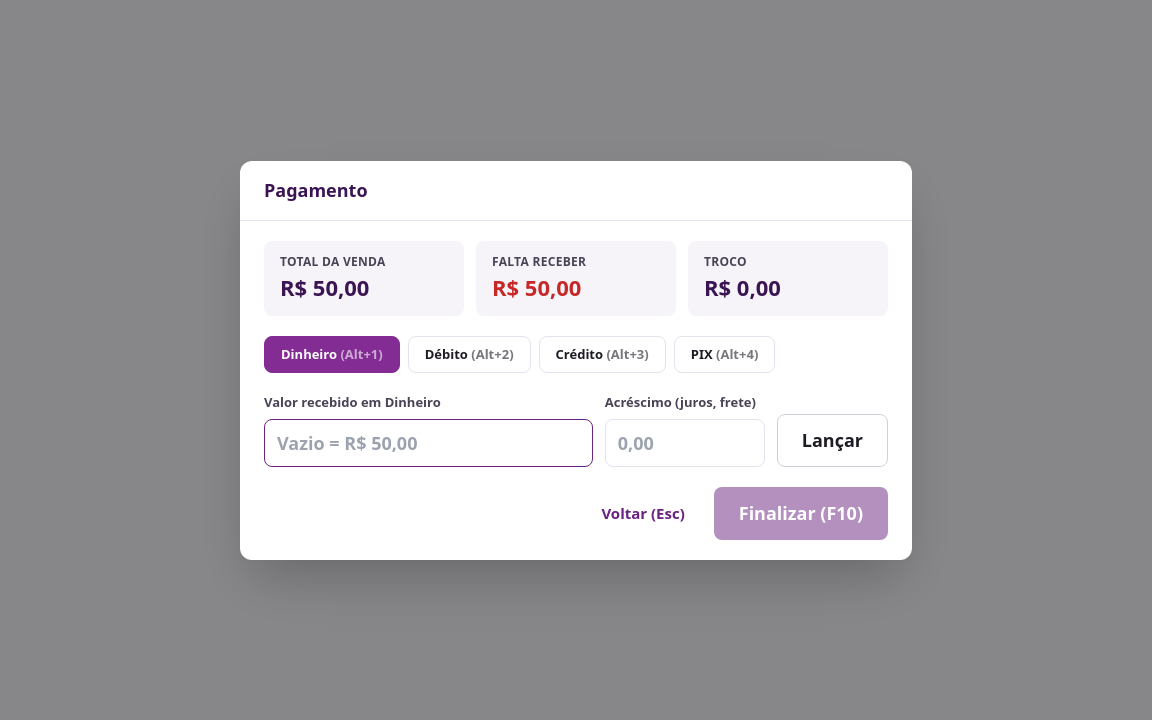
Test: GAP-PRD-014 — o cartão pelo agente local › agente fora do ar é avisado antes de cobrar
The width and height of the screenshot is (1152, 720).
Click the button "Crédito (Alt+3)": point(602, 354) 538,336 -> 666,373
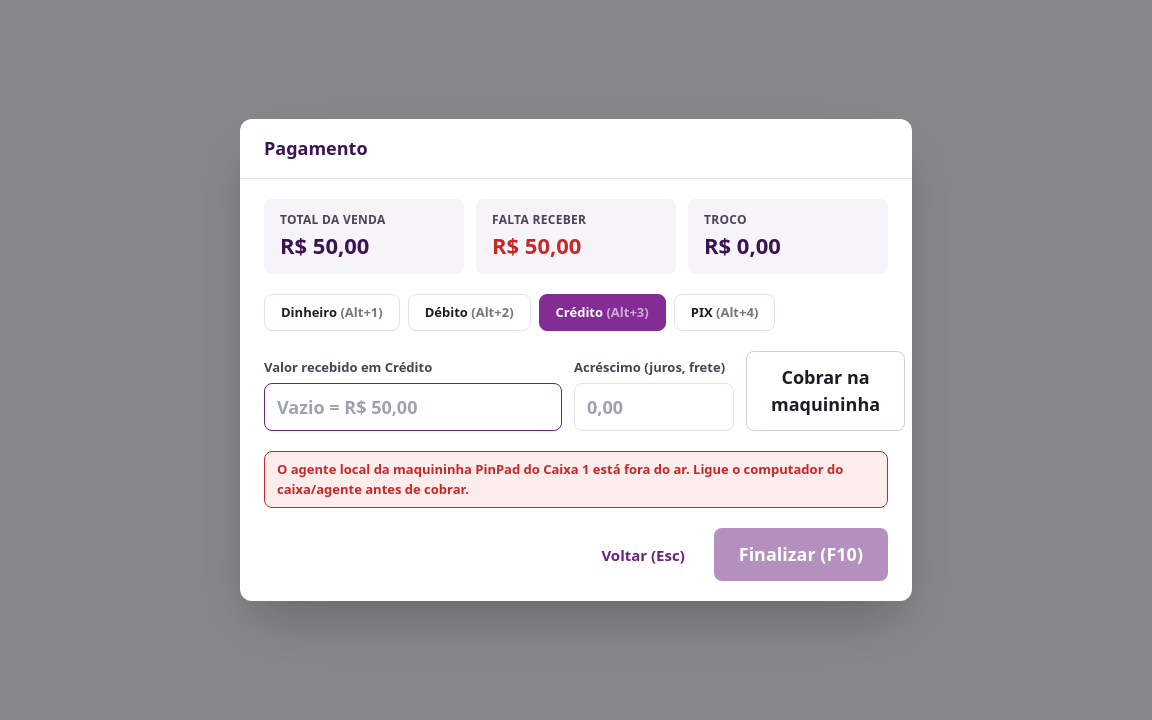
Now the message named "Maquininha sem resposta" shows "fora do ar", box 277,460 -> 843,498
